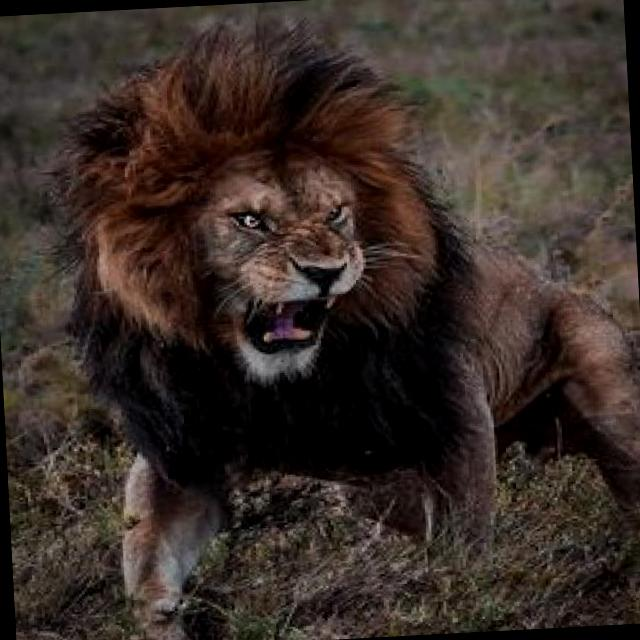lions: (24, 7, 640, 620)
